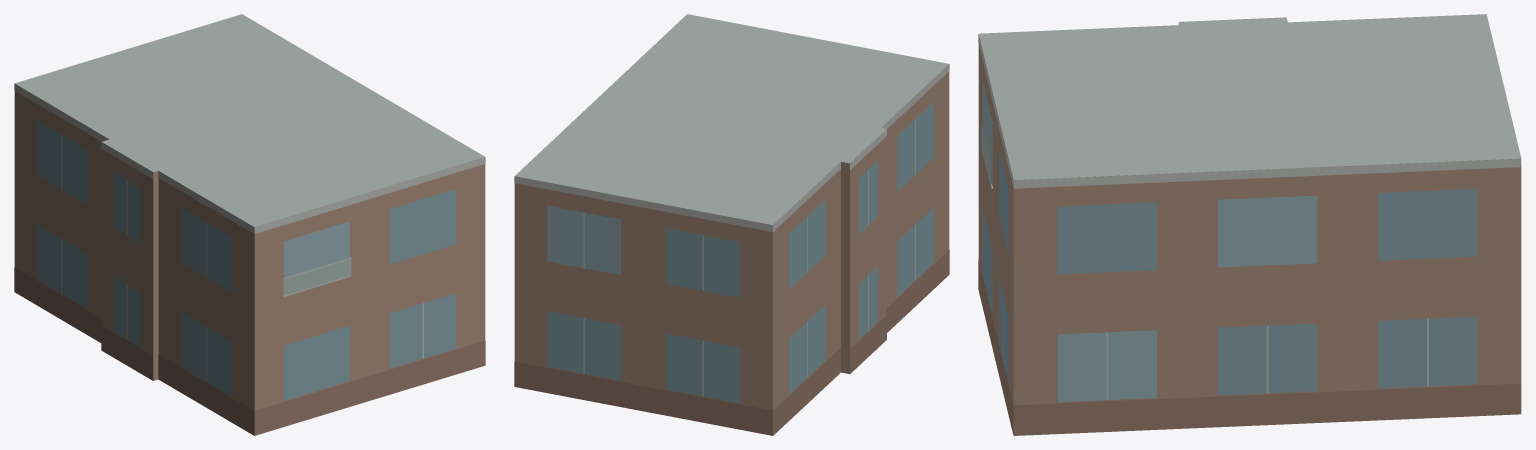
The model's file is survey-upis-32625744.glb.
3 views of the same model, side by side, from view 1: azimuth 30°, elevation 25°; view 2: azimuth 150°, elevation 25°; view 3: azimuth 270°, elevation 25° (orthographic). The views are drawn at different scales.
Parts seen in each view (by area): view 1: survey-upis-32625744.tmp; view 2: survey-upis-32625744.tmp; view 3: survey-upis-32625744.tmp.
Part boxes in pixels (box(x1,y1,x2,y2)): survey-upis-32625744.tmp: box(14, 14, 485, 435); survey-upis-32625744.tmp: box(514, 14, 949, 435); survey-upis-32625744.tmp: box(978, 14, 1521, 435).
Bounding box in the file's own units: 10.19 × 7.3 × 14.06.
